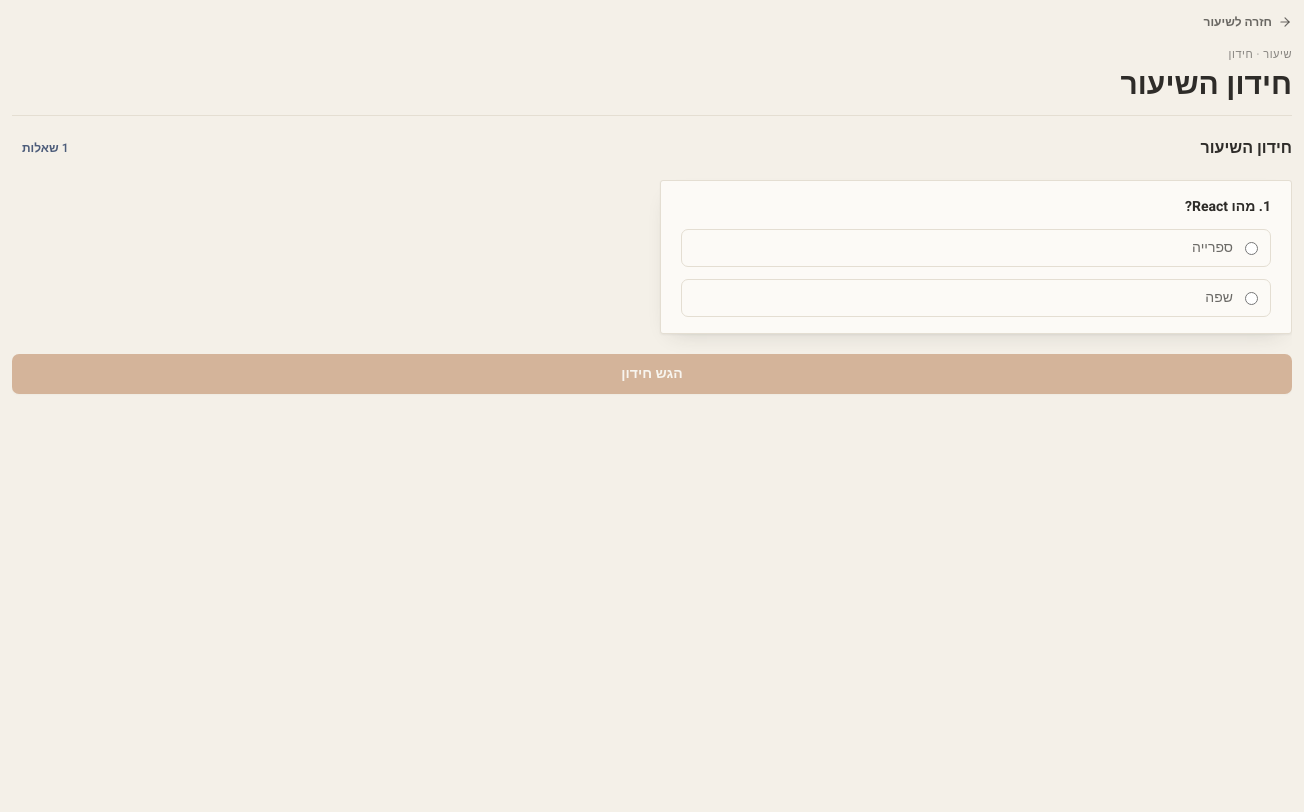
Test case: QuizPage › submits answers and shows the score result
Click the radio button labelled "ספרייה". click: (1252, 248)
box: [1245, 242, 1258, 255]
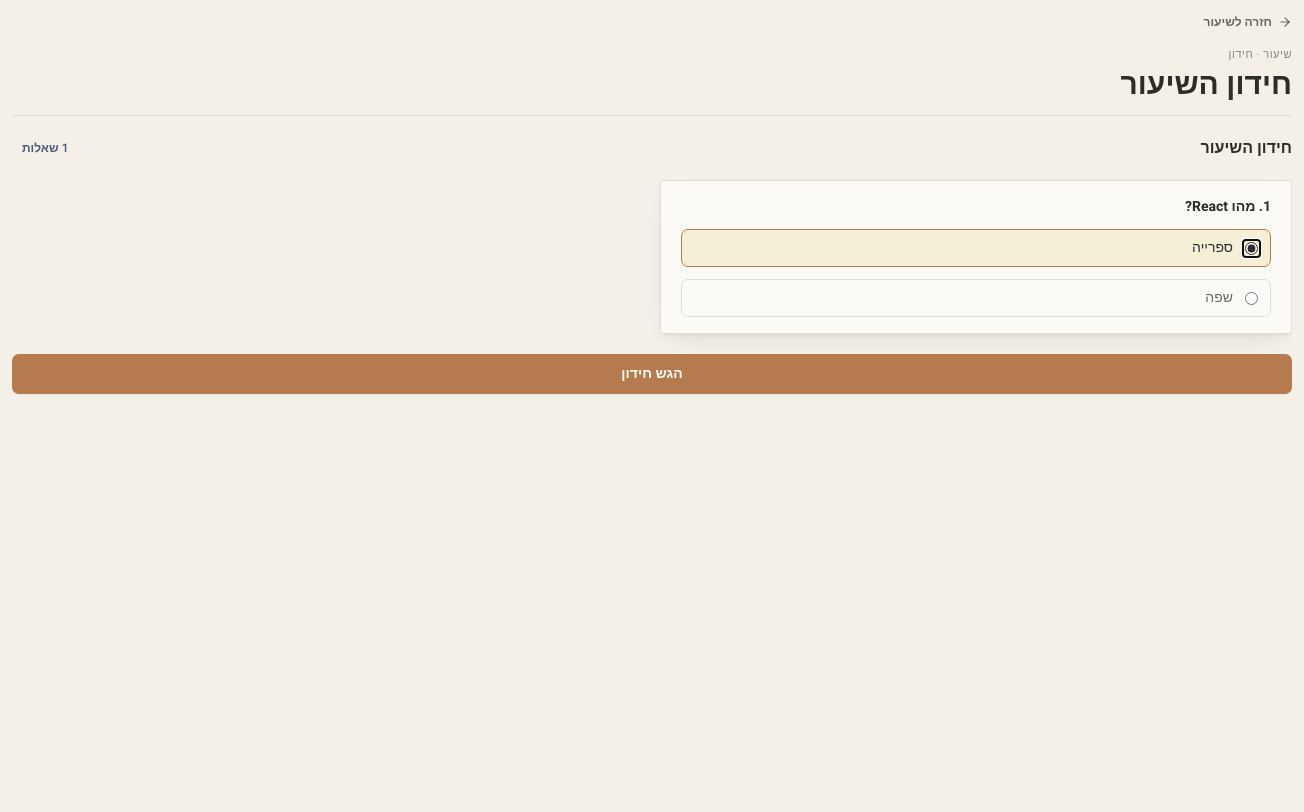
Click the button "הגש חידון". click: (652, 374)
box: [12, 354, 1292, 394]
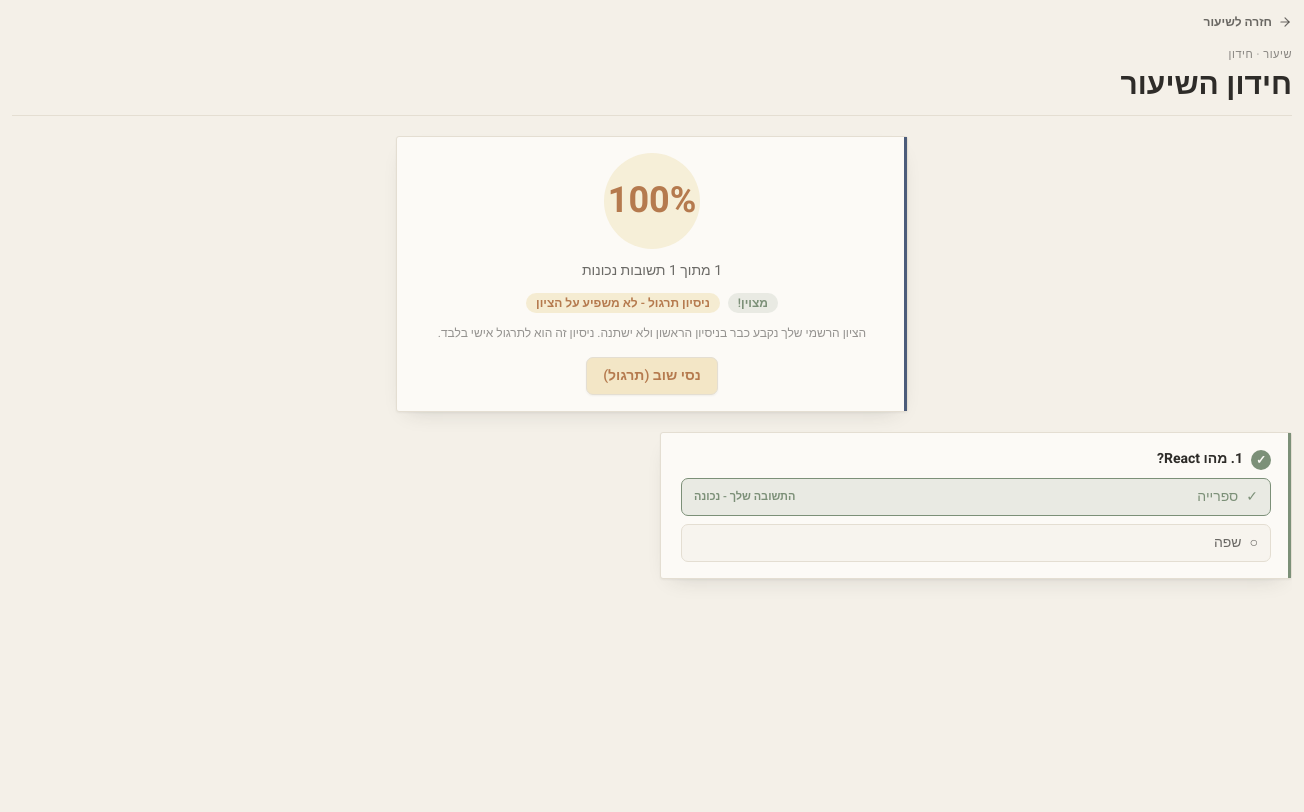
Now the text "100%" is shown, box [604, 153, 700, 249]
Now the text "מצוין!" is shown, box [728, 293, 778, 313]
